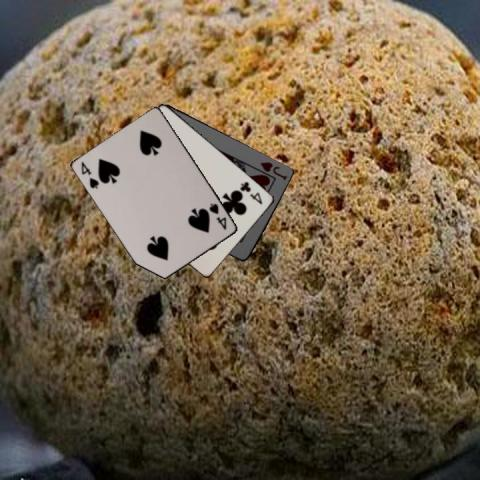4c: (237, 179, 264, 206)
4s: (78, 159, 100, 190), (207, 200, 228, 231)
Jh: (257, 159, 289, 181)
